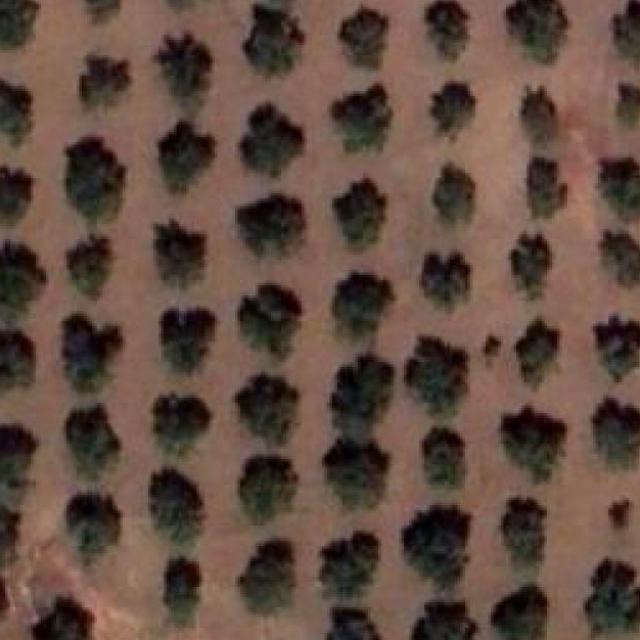Tree: (403, 505, 470, 589), (402, 336, 467, 416), (64, 137, 125, 222), (499, 405, 564, 481), (238, 104, 304, 178), (237, 283, 302, 357), (322, 355, 391, 424), (322, 437, 389, 508), (62, 314, 123, 391), (234, 375, 299, 445), (584, 559, 640, 637), (242, 4, 304, 74), (328, 84, 391, 152), (154, 33, 212, 106), (64, 406, 120, 480), (238, 541, 294, 615), (331, 273, 394, 337), (148, 469, 202, 543), (158, 122, 214, 193), (237, 194, 302, 255), (319, 534, 378, 601), (0, 242, 46, 326), (506, 0, 568, 62), (237, 459, 297, 523), (332, 178, 386, 249), (158, 308, 214, 374), (66, 495, 120, 562), (152, 393, 210, 455), (64, 232, 118, 298), (153, 219, 204, 288), (592, 398, 640, 470), (591, 316, 640, 383), (338, 7, 388, 70), (490, 585, 547, 640), (500, 497, 547, 563), (513, 319, 557, 387), (420, 252, 470, 310), (510, 234, 552, 301), (422, 0, 467, 60), (598, 157, 640, 221), (432, 162, 476, 222), (421, 426, 465, 486), (31, 597, 92, 640), (164, 556, 202, 625), (411, 602, 477, 640), (526, 157, 566, 218), (84, 58, 130, 108), (520, 86, 558, 142), (602, 231, 640, 287), (430, 84, 472, 133), (0, 81, 31, 147), (0, 331, 34, 391), (0, 166, 34, 225), (0, 426, 36, 481), (326, 604, 381, 640), (0, 0, 39, 48), (614, 0, 640, 62), (0, 498, 22, 556), (614, 83, 640, 128), (81, 0, 120, 21), (481, 335, 506, 363), (608, 500, 629, 531), (0, 576, 8, 618)
